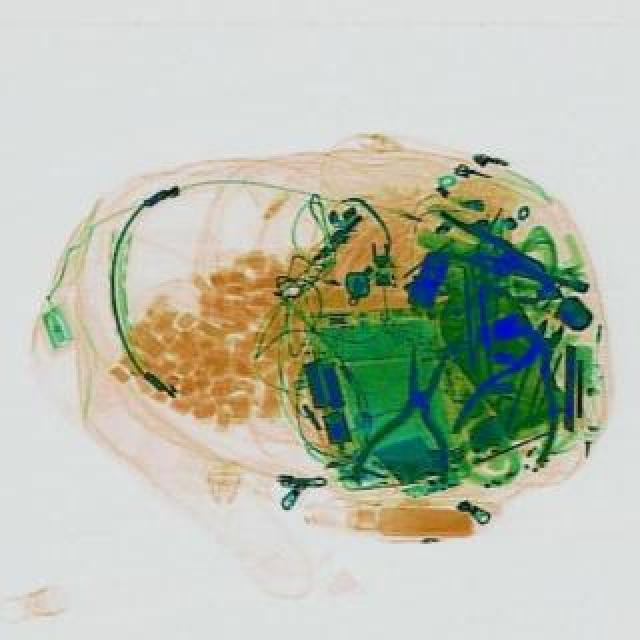wrench: (446, 300, 600, 468), (348, 336, 474, 496), (420, 206, 556, 294)
